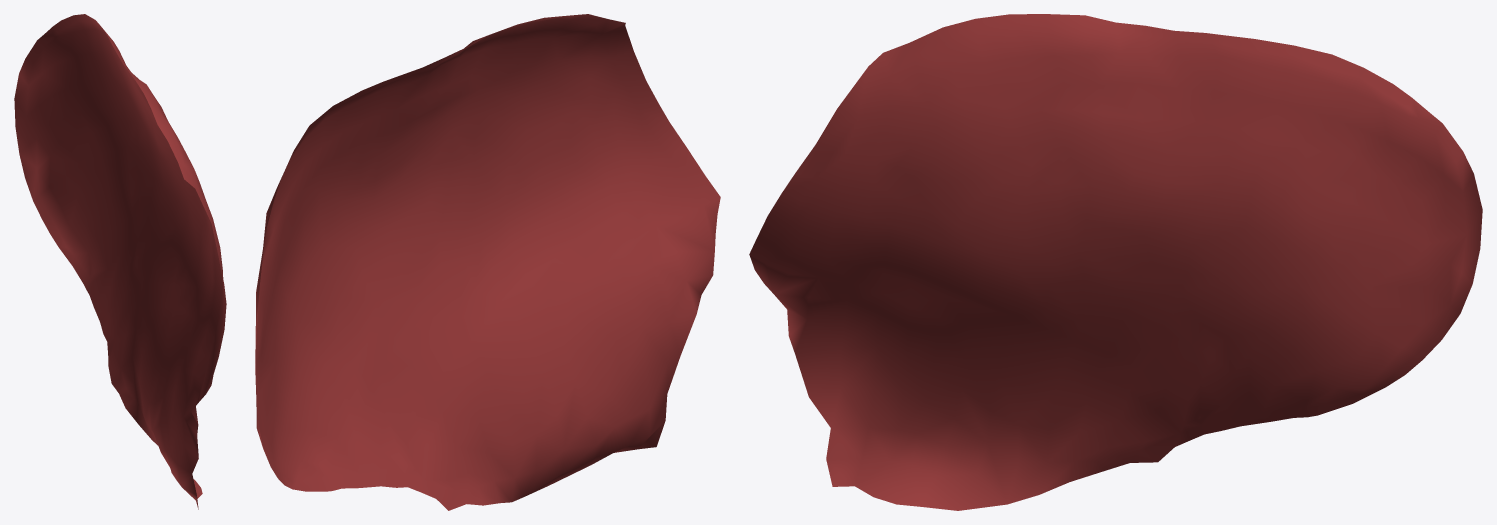
The model's file is superficial-layer-of-temporal-fascia-l.glb.
3 renders of one model, left to right at view 1: azimuth 30°, elevation 25°; view 2: azimuth 150°, elevation 25°; view 3: azimuth 270°, elevation 25°, orthographic. The views are drawn at different scales.
Parts seen in each view (by area): view 1: Superficial layer of temporal fascia.l; view 2: Superficial layer of temporal fascia.l; view 3: Superficial layer of temporal fascia.l.
Boxes of the visible parts, box(x1,y1,x2,y2) form: Superficial layer of temporal fascia.l: box(14, 14, 226, 509); Superficial layer of temporal fascia.l: box(255, 14, 720, 510); Superficial layer of temporal fascia.l: box(749, 14, 1482, 510).
Bounding box in the file's own units: 0.0285 × 0.0845 × 0.1138.
